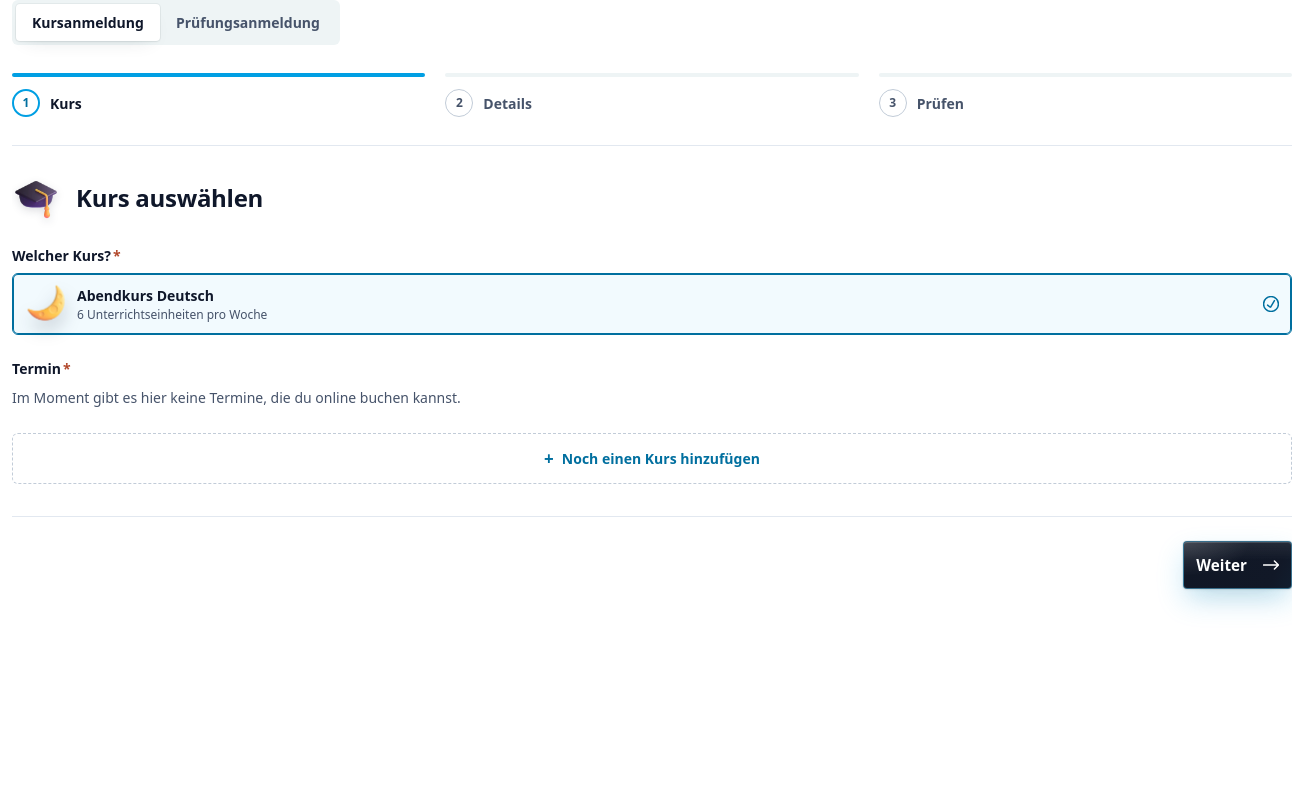
it: course registration wizard › focuses the first invalid field by its element id and announces the failed step
The image size is (1304, 800).
Click the button "Weiter" at (1238, 565), box [1183,541,1292,589]
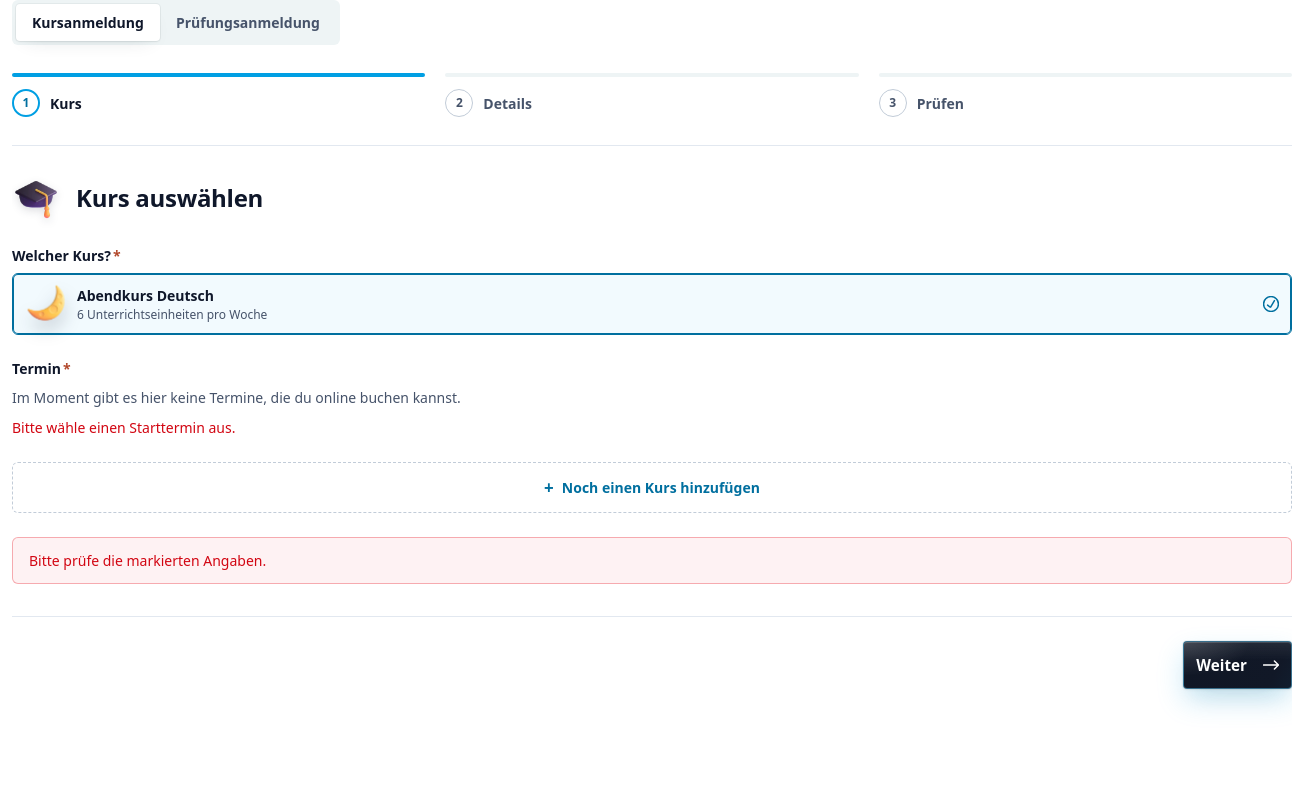
Expected: the message "Bitte prüfe die markierten Angaben." is shown, [12,537,1292,584]
